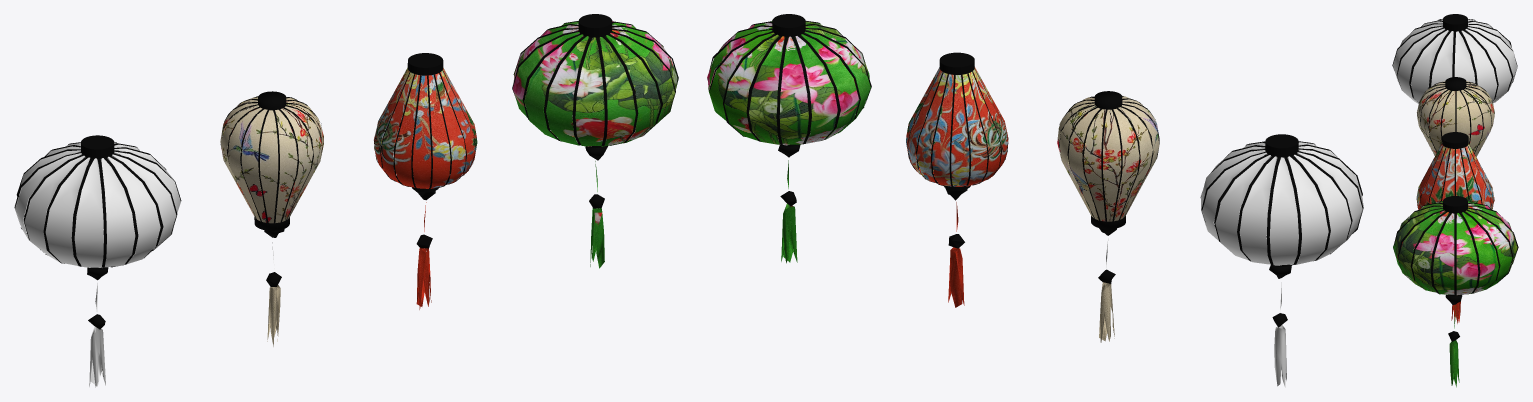
The model's file is Vietnamese Lantern.fbx.
3 views of the same model, side by side, from view 1: azimuth 30°, elevation 25°; view 2: azimuth 150°, elevation 25°; view 3: azimuth 270°, elevation 25° (orthographic). The views are drawn at different scales.
Visible parts, largest first — view 1: lantern 2, lantern 4, lantern 1, lantern 3; view 2: lantern 4, lantern 2, lantern 1, lantern 3; view 3: lantern 4, lantern 2, lantern 3, lantern 1.
Boxes of the visible parts, x1,y1,x2,y2 form: lantern 2: (14, 135, 181, 387); lantern 4: (512, 14, 678, 268); lantern 1: (373, 53, 477, 309); lantern 3: (220, 91, 323, 346); lantern 4: (707, 14, 871, 263); lantern 2: (1200, 134, 1363, 387); lantern 1: (906, 52, 1008, 307); lantern 3: (1057, 91, 1159, 342); lantern 4: (1393, 196, 1518, 387); lantern 2: (1392, 14, 1517, 103); lantern 3: (1416, 77, 1494, 159); lantern 1: (1416, 132, 1494, 323).
Bounding box in the file's own units: 684 × 253 × 155.
Materials: 5 (3 with a texture image).
